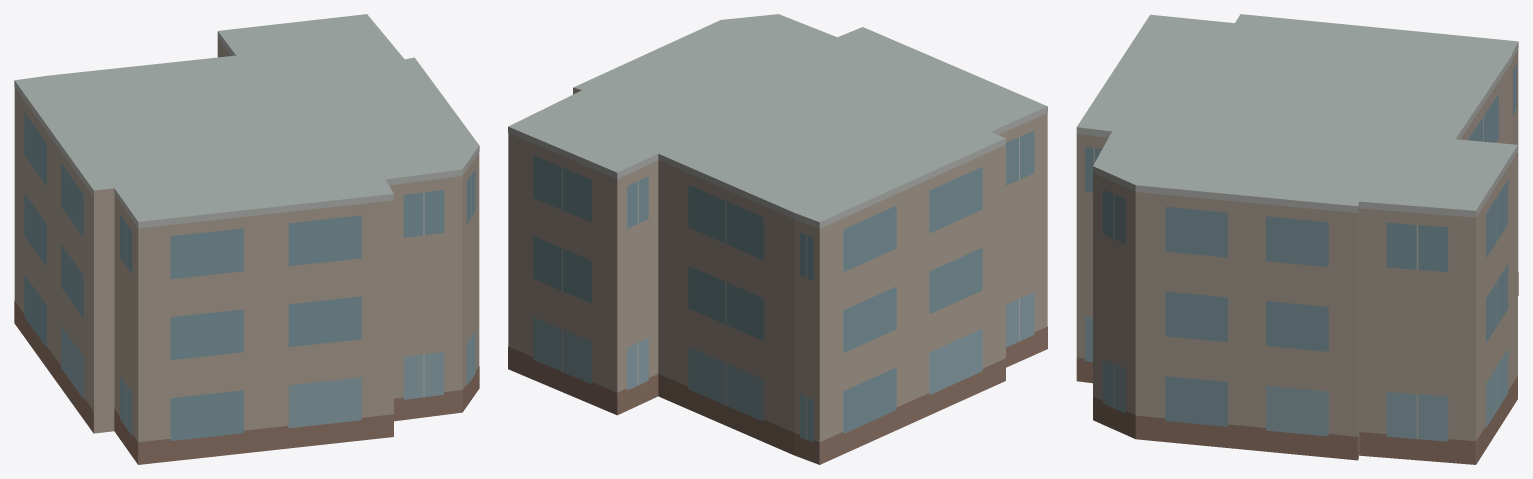
File: survey-upis-32950468.glb
3 renders of one model, left to right at view 1: azimuth 30°, elevation 25°; view 2: azimuth 150°, elevation 25°; view 3: azimuth 270°, elevation 25°, orthographic. The views are drawn at different scales.
Parts seen in each view (by area): view 1: survey-upis-32950468.tmp; view 2: survey-upis-32950468.tmp; view 3: survey-upis-32950468.tmp.
Part boxes in pixels (x1=…): survey-upis-32950468.tmp: x1=14, y1=14, x2=479, y2=464; survey-upis-32950468.tmp: x1=508, y1=14, x2=1047, y2=464; survey-upis-32950468.tmp: x1=1076, y1=14, x2=1518, y2=464.
Bounding box in the file's own units: 15.22 × 9.15 × 14.44.
